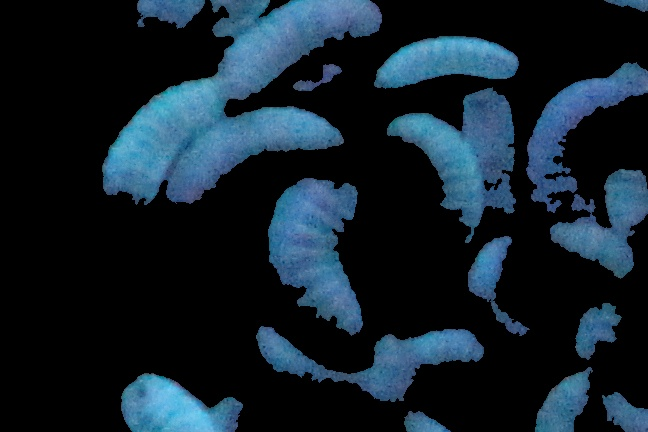larvae: (167, 104, 346, 205), (531, 67, 646, 208), (216, 1, 380, 97), (267, 179, 360, 345), (105, 75, 215, 212), (390, 112, 475, 242), (249, 319, 374, 399), (462, 76, 513, 221), (374, 35, 516, 86), (467, 229, 526, 344), (113, 372, 218, 432), (551, 218, 641, 285), (535, 365, 596, 432), (396, 331, 490, 371)
